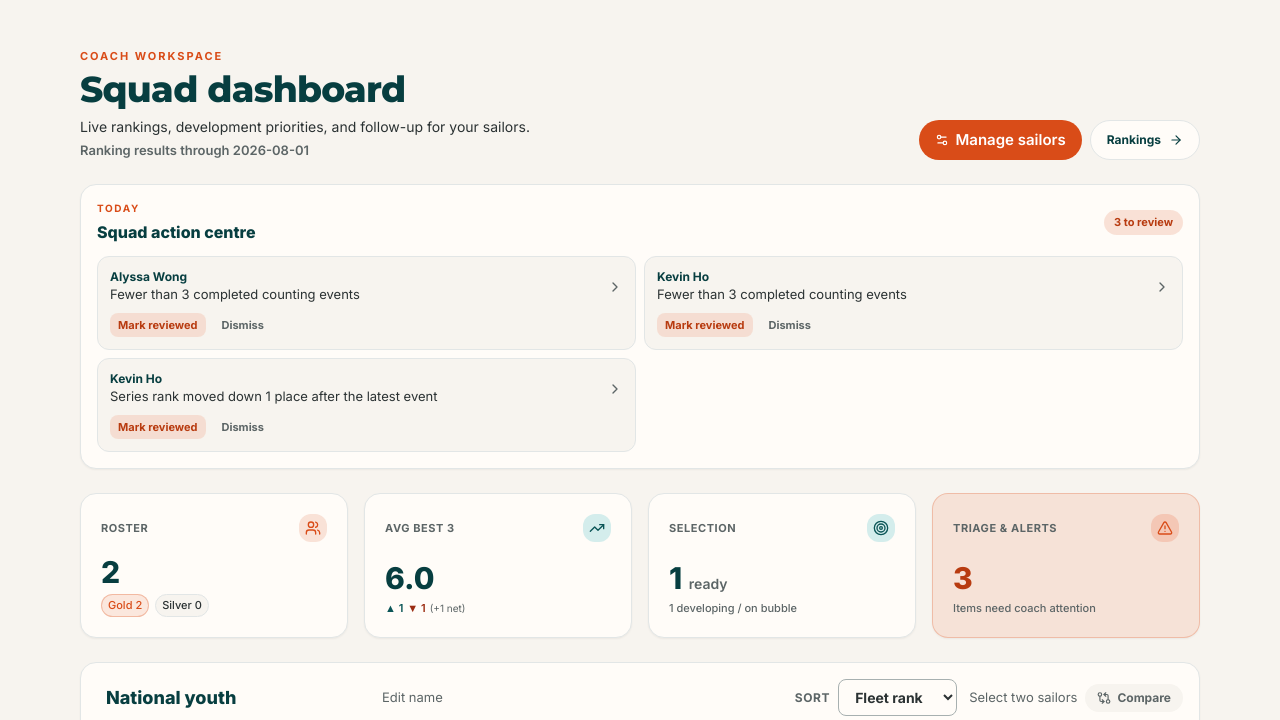
it: CoachDashboard › keeps administration behind Manage sailors and sorts the active squad
The width and height of the screenshot is (1280, 720).
Select "Name" in the dropdown labelled "Sort" at (898, 698), box [838,679,957,716]
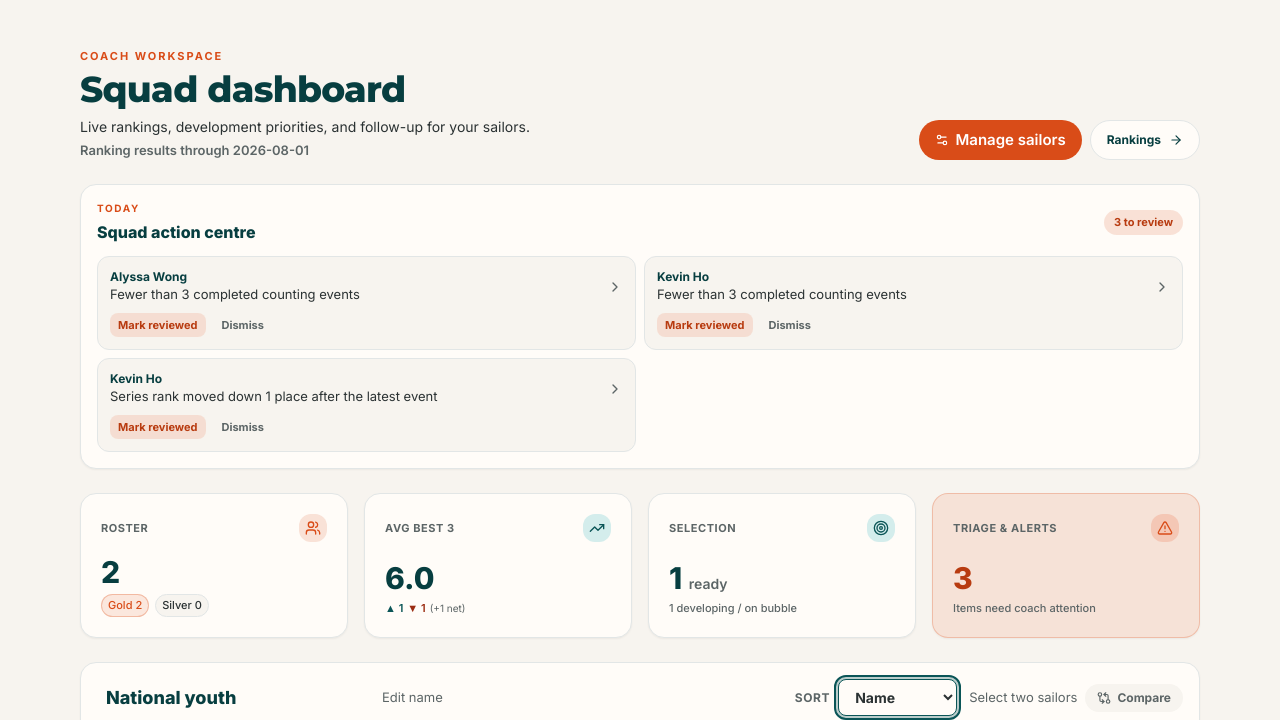
Click the button "Manage sailors" at (1001, 140), box [919,120,1082,160]
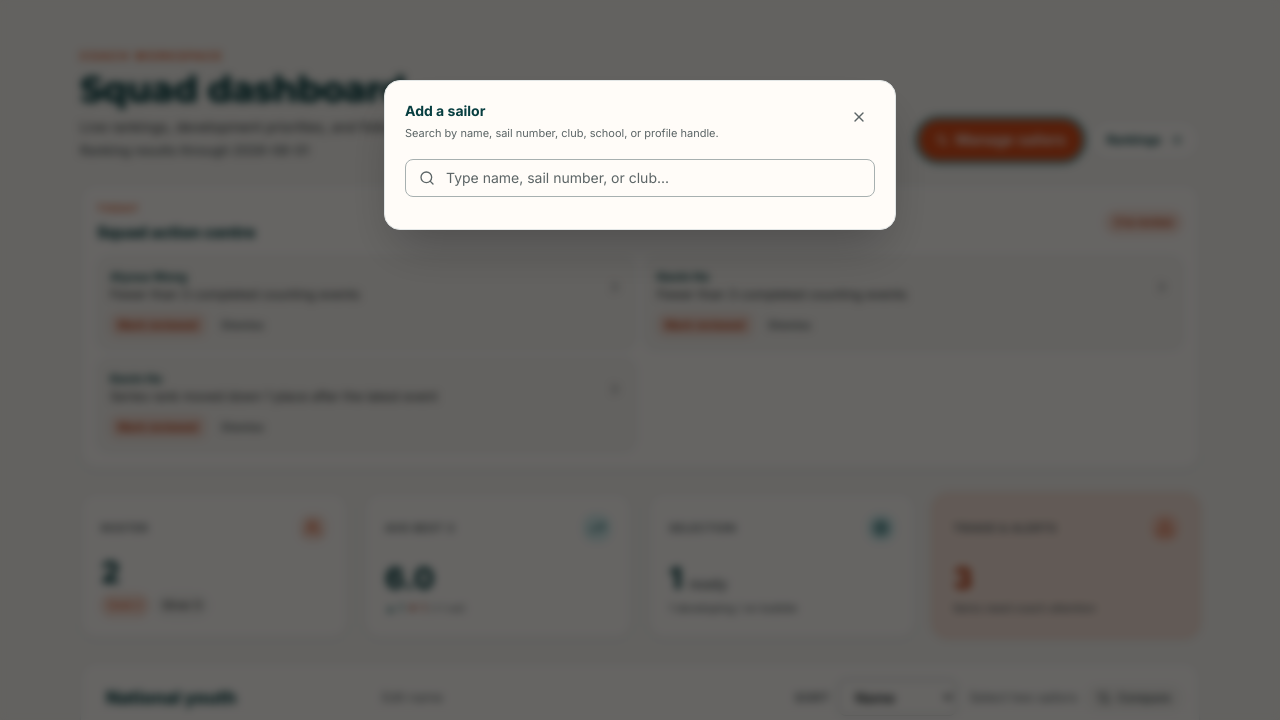
Check: the dialog named "Manage sailors" is shown
